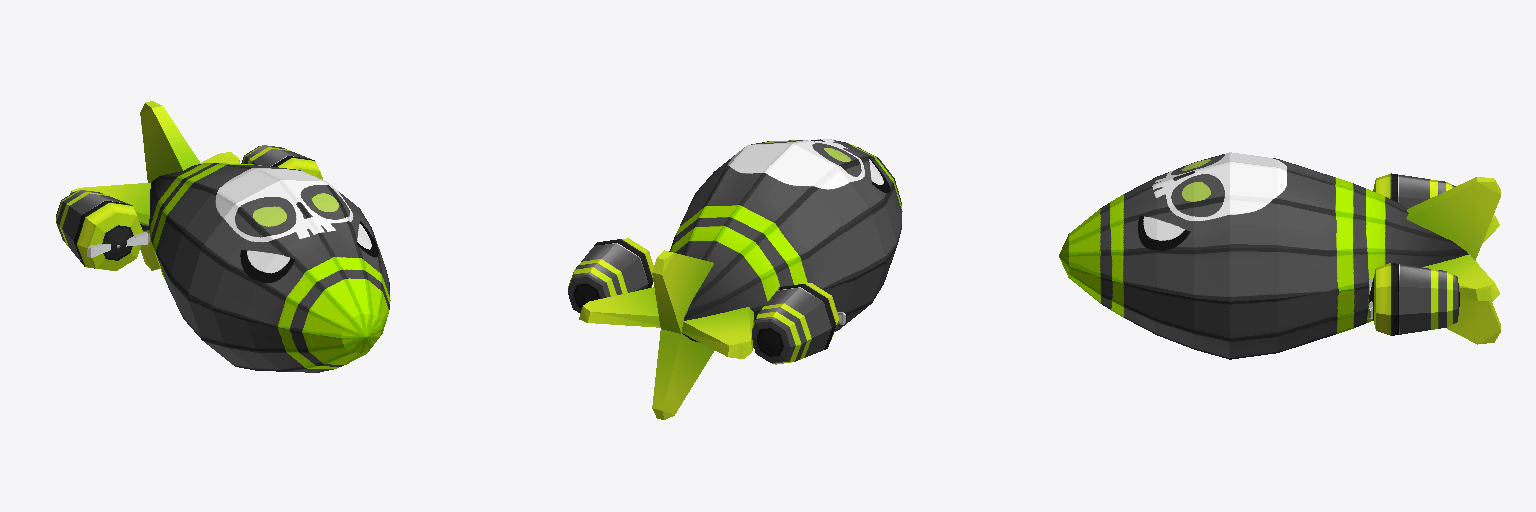
3 views of the same model, side by side, from view 1: azimuth 30°, elevation 25°; view 2: azimuth 150°, elevation 25°; view 3: azimuth 270°, elevation 25° (orthographic).
Visible parts, largest first — view 1: Body_Body.001; view 2: Body_Body.001; view 3: Body_Body.001.
Boxes of the visible parts, <box> form: Body_Body.001: <box>56,101,390,372</box>; Body_Body.001: <box>568,139,902,419</box>; Body_Body.001: <box>1059,152,1500,359</box>.
Size of the model in its own units: 65.5 by 47.53 by 101.
1 materials, 1 textured.